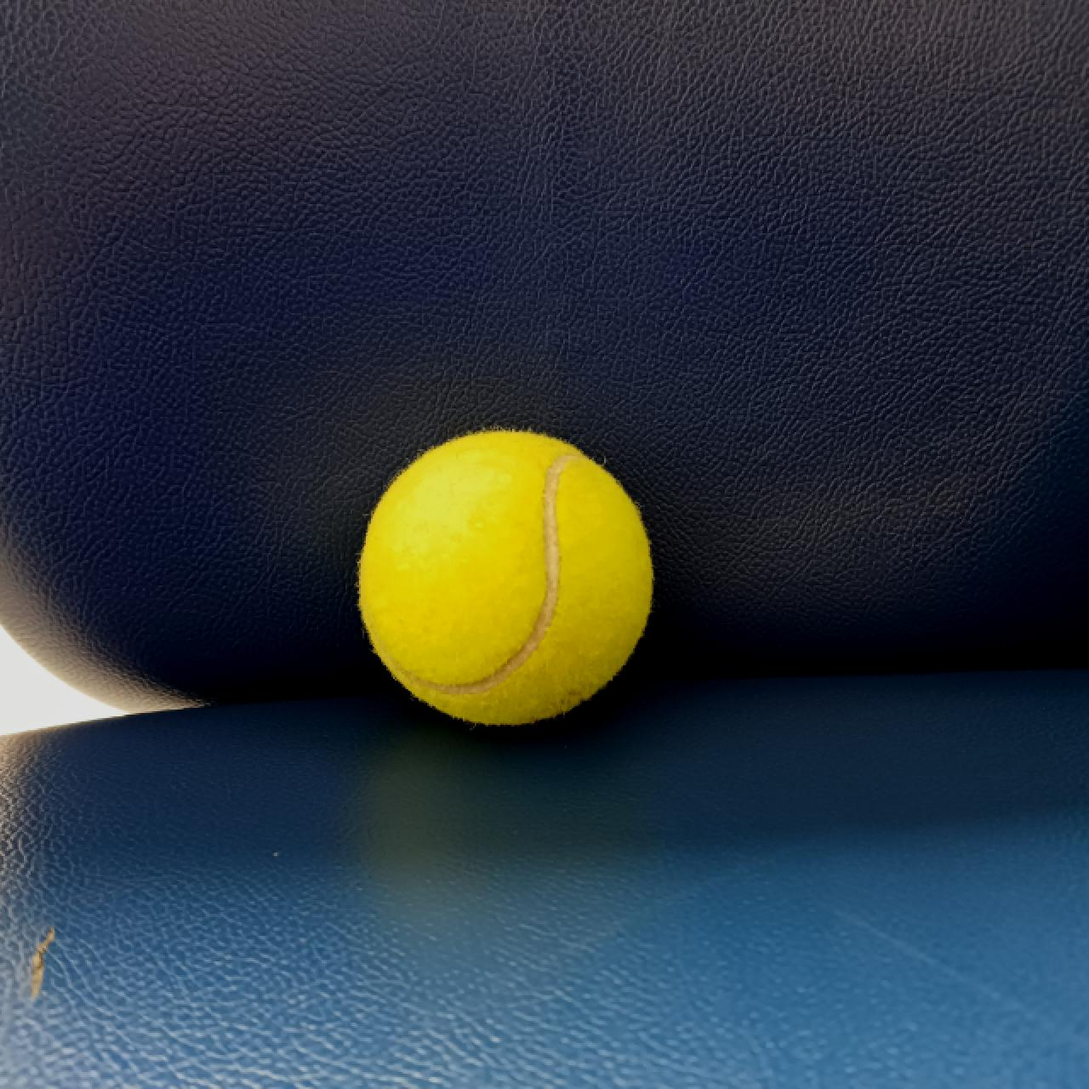tennis-ball: (358, 426, 655, 727)
